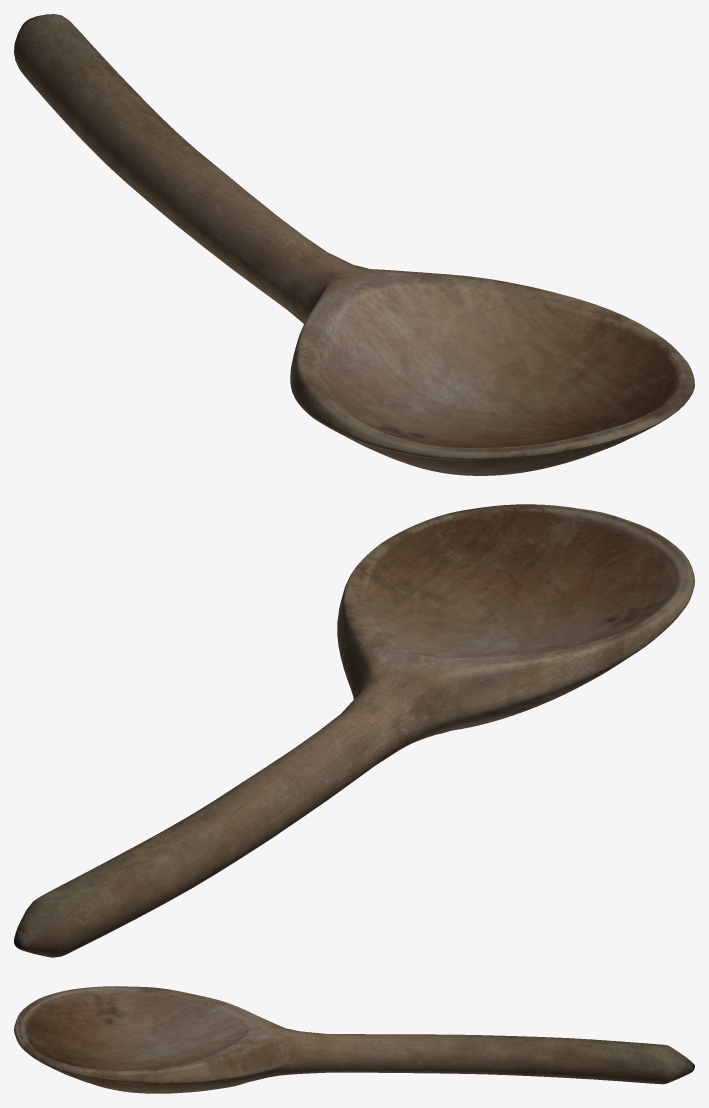
Rendered from wooden_spoon.glb.
3 renders of one model, top to bottom at view 1: azimuth 30°, elevation 25°; view 2: azimuth 150°, elevation 25°; view 3: azimuth 270°, elevation 25°, orthographic. The views are drawn at different scales.
Visible parts, largest first — view 1: wooden_spoon; view 2: wooden_spoon; view 3: wooden_spoon.
Boxes of the visible parts, x1,y1,x2,y2 form: wooden_spoon: (14, 14, 694, 475); wooden_spoon: (14, 504, 694, 957); wooden_spoon: (14, 986, 694, 1093).
Size of the model in its own units: 0.0867 by 0.0251 by 0.2776.
Materials: 1 (1 with a texture image).
